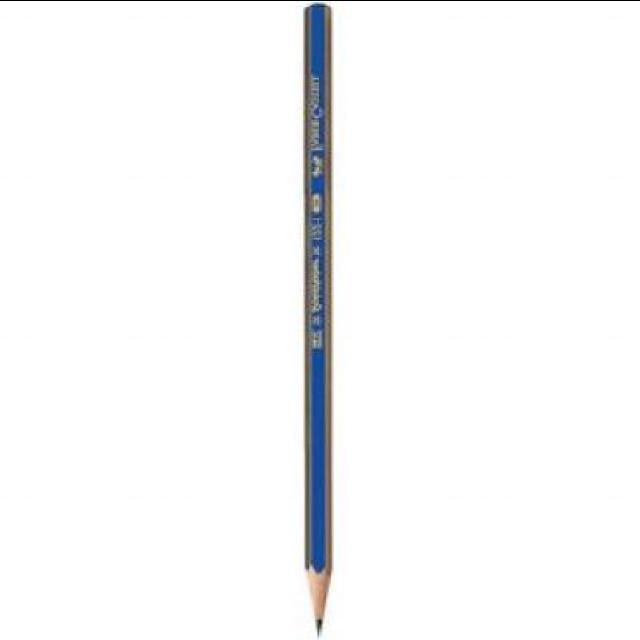pencil: (286, 463, 350, 640)
